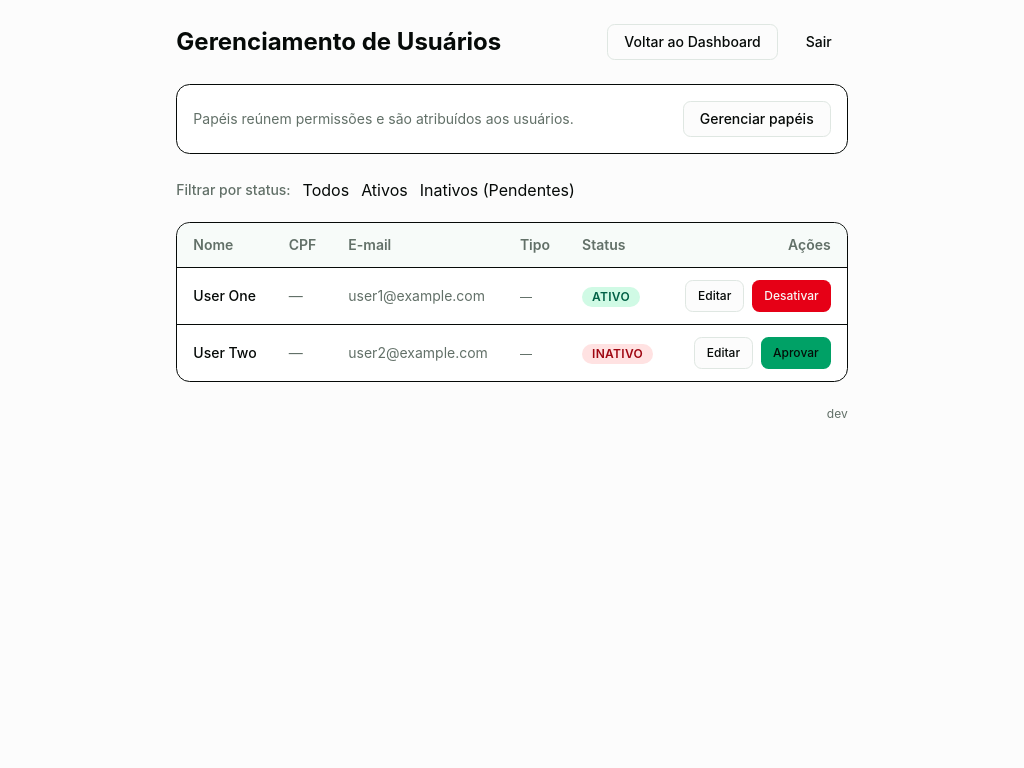
AdminUserDashboard › closes edit modal when backdrop is clicked
This screenshot has width=1024, height=768.
Expected: the text "User One" is shown, x1=177 y1=268 x2=273 y2=324
Click the button "Editar" in the row of "User One": (715, 296) x1=685 y1=280 x2=744 y2=312
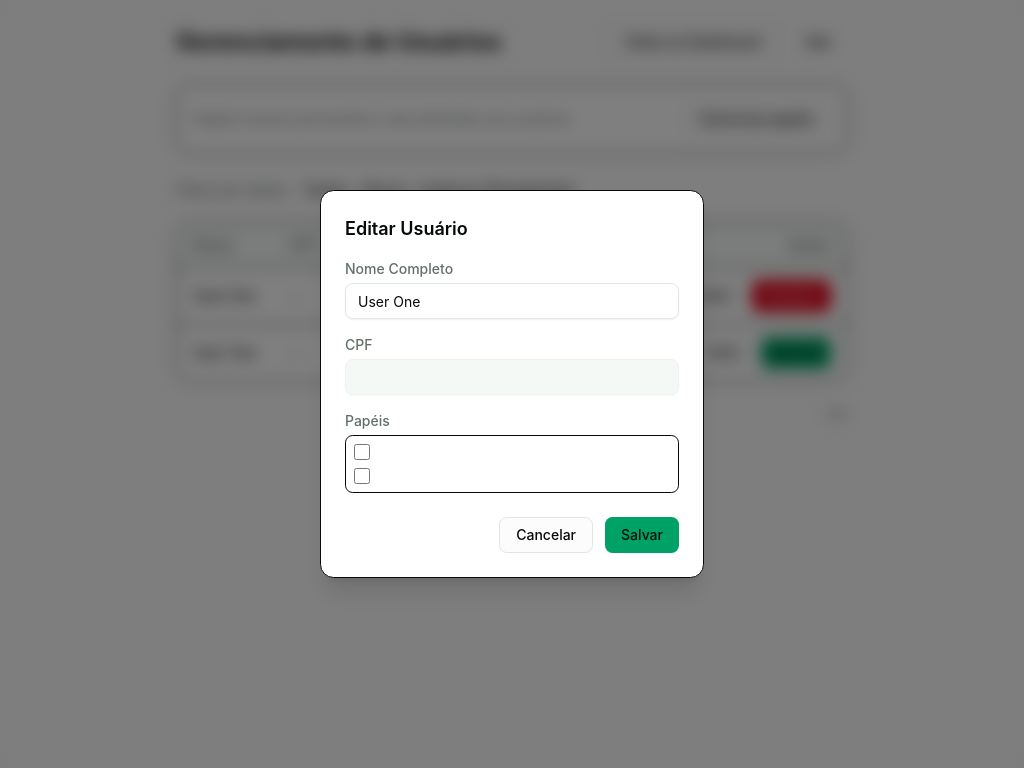
Now the heading "Editar Usuário" is shown, box x1=345 y1=218 x2=468 y2=239
Click the element with class "z-50": (61, 384) x1=0 y1=0 x2=1023 y2=767
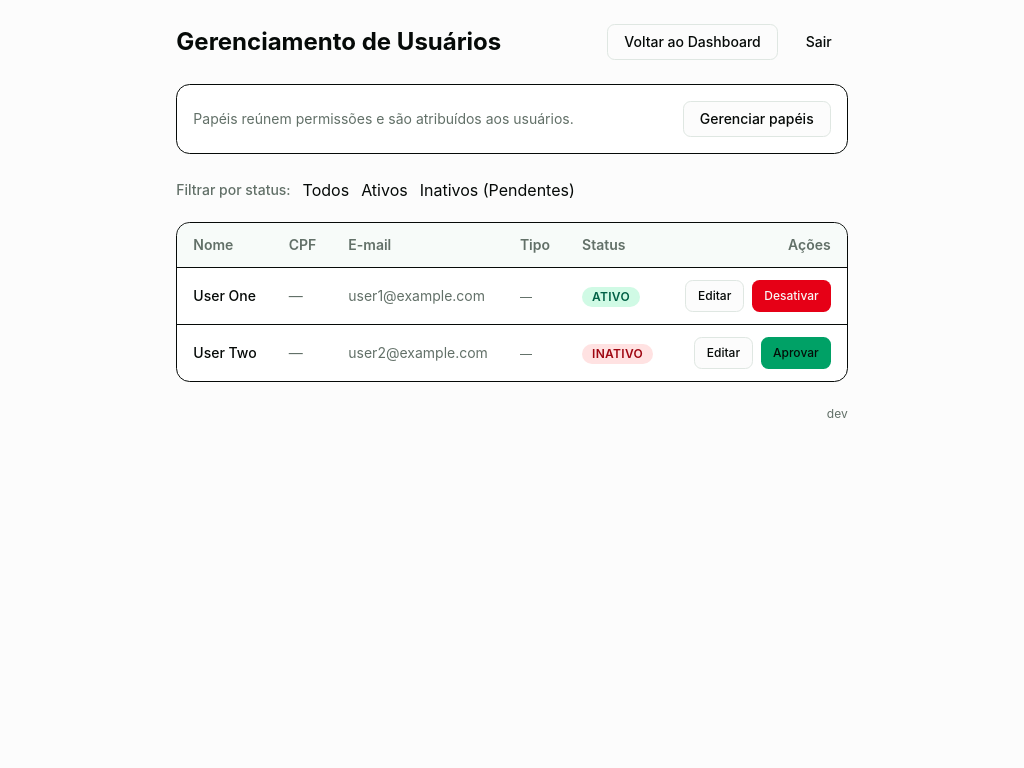
Now the heading "Editar Usuário" is gone
